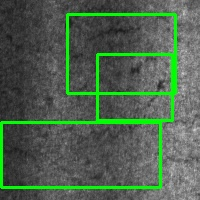crazing: (1, 122, 160, 187), (67, 14, 175, 93), (97, 54, 172, 120)
